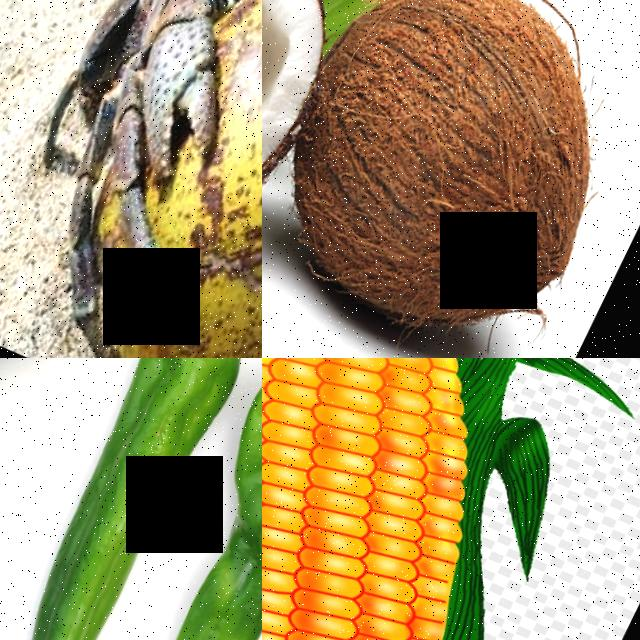chilli: (0, 358, 262, 640), (55, 358, 262, 640), (0, 358, 162, 640), (152, 371, 262, 640)
coconut: (262, 0, 640, 358), (91, 0, 262, 358), (262, 0, 378, 289)
corn: (262, 358, 603, 640)
